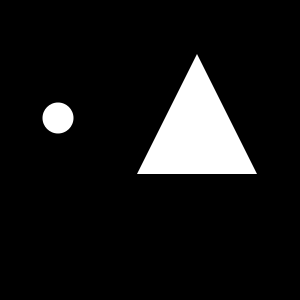rectangle: (42, 102, 74, 133)
triangle: (137, 54, 257, 174), (205, 132, 224, 151)
